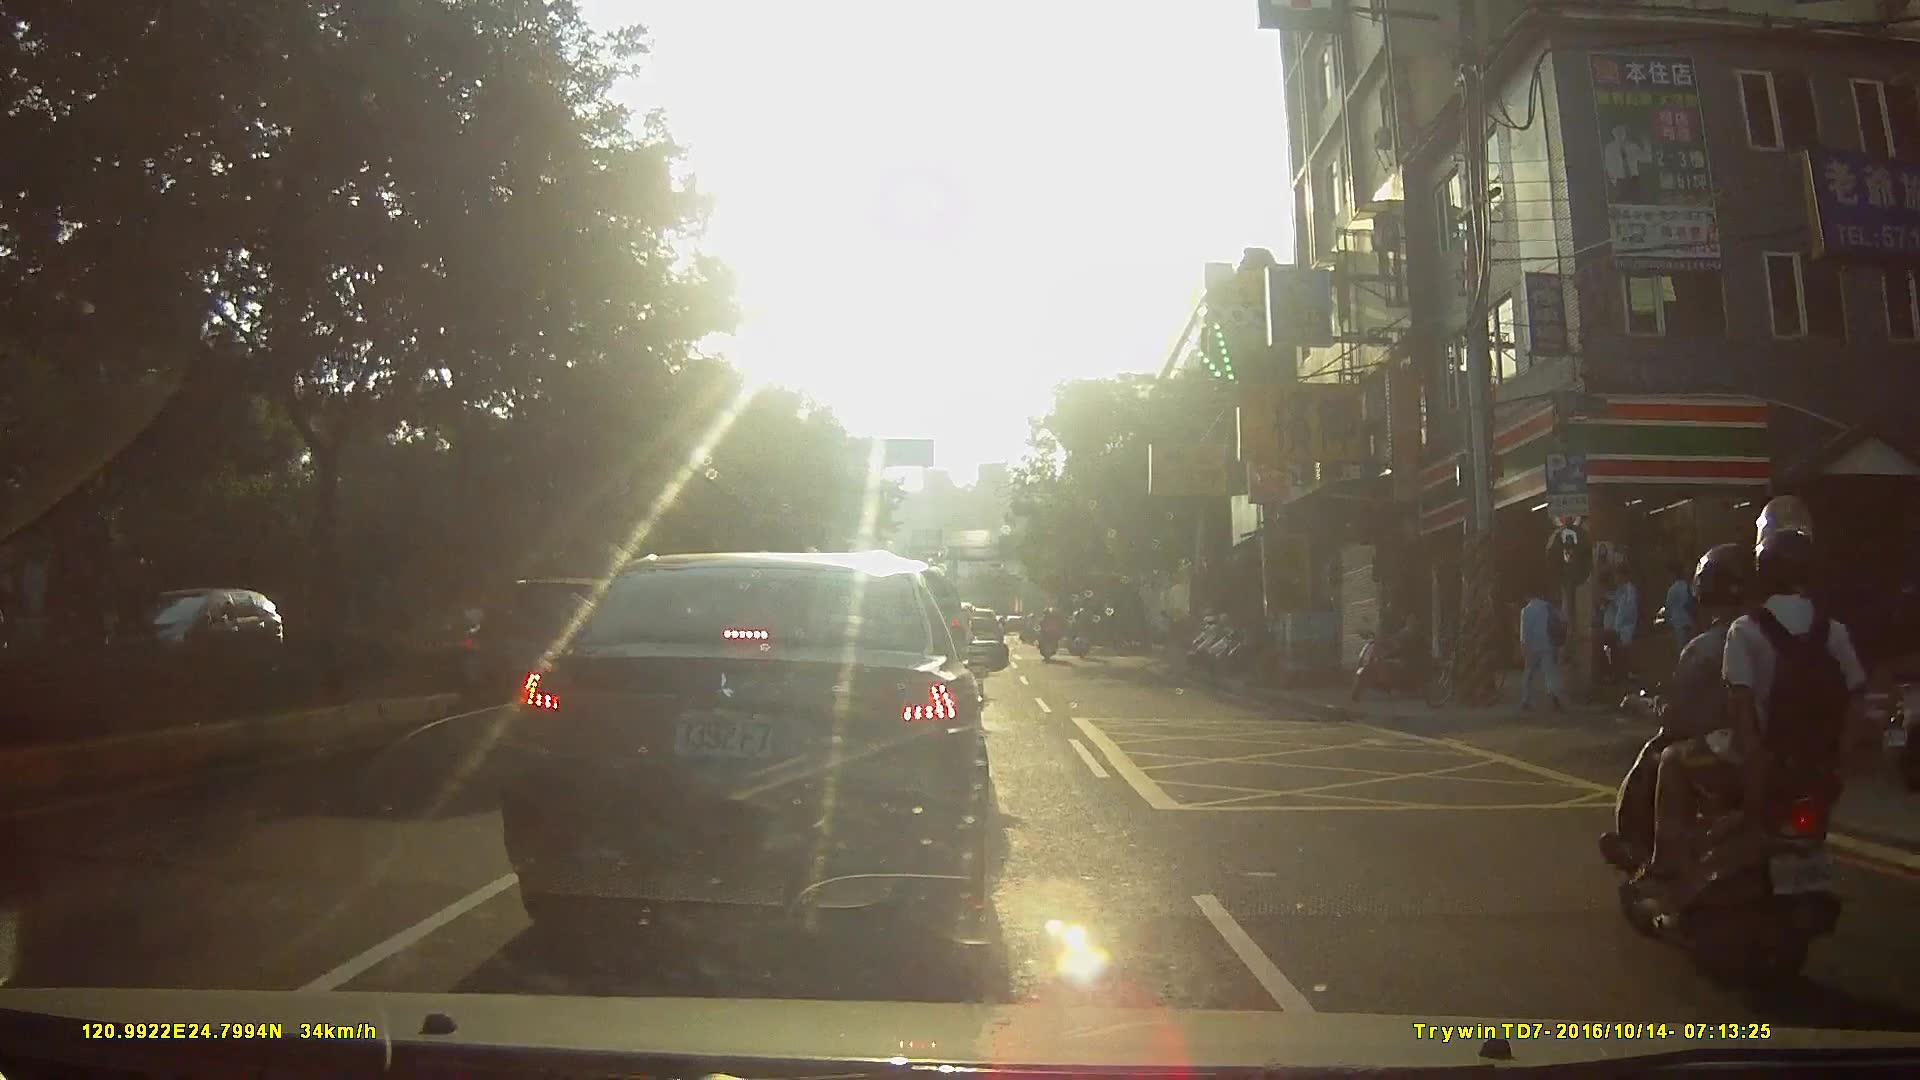pedestrian: (1517, 579, 1571, 714), (1596, 566, 1639, 687), (1667, 565, 1708, 677), (1594, 567, 1617, 695)
rider: (1594, 496, 1871, 989), (1038, 606, 1061, 666), (1067, 610, 1091, 661)
vehicle: (488, 543, 1015, 956), (101, 585, 293, 685)
